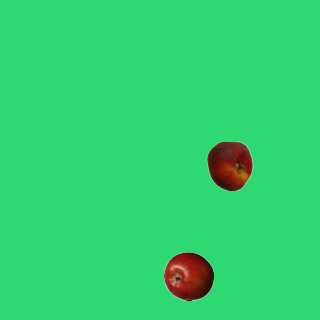Apple Braeburn: (163, 251, 213, 301)
Nectarine Flat: (204, 140, 254, 190)
